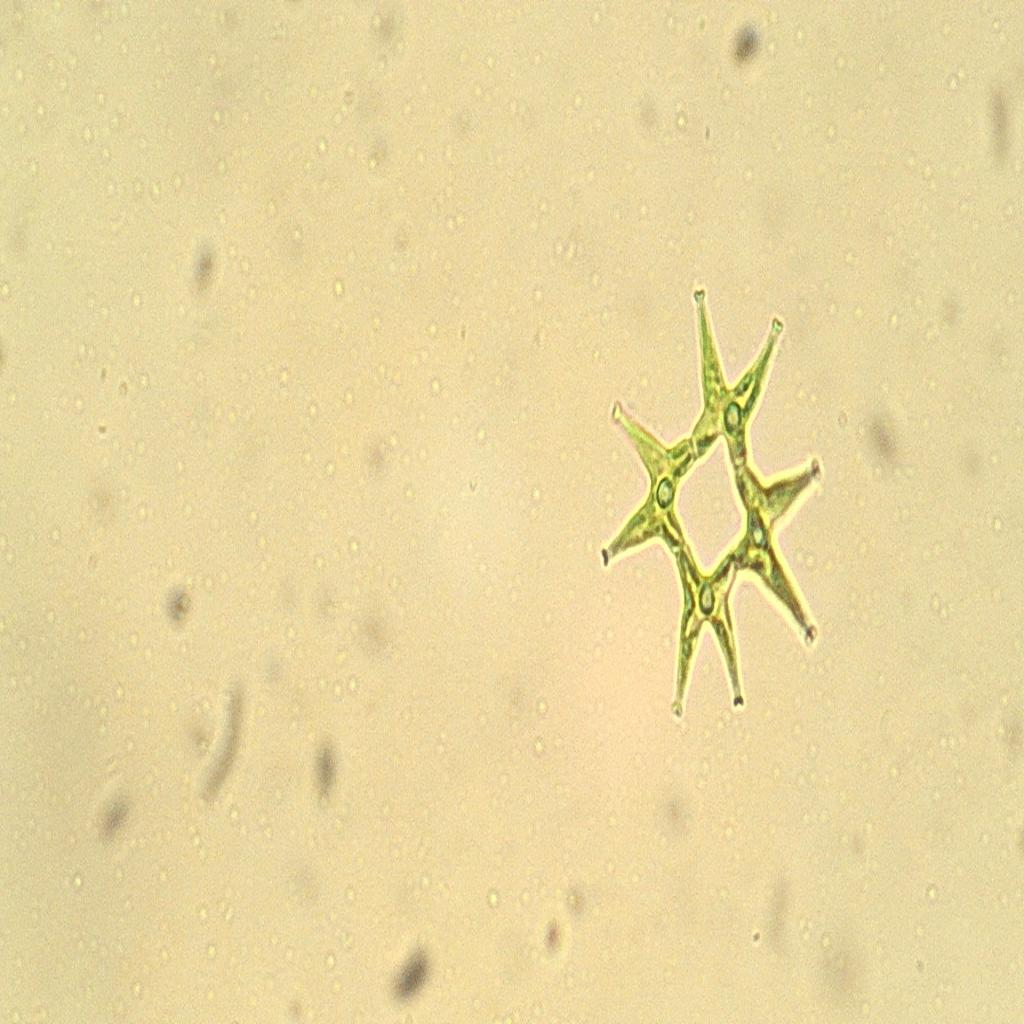Pediastrum_CO: (590, 255, 824, 748)
